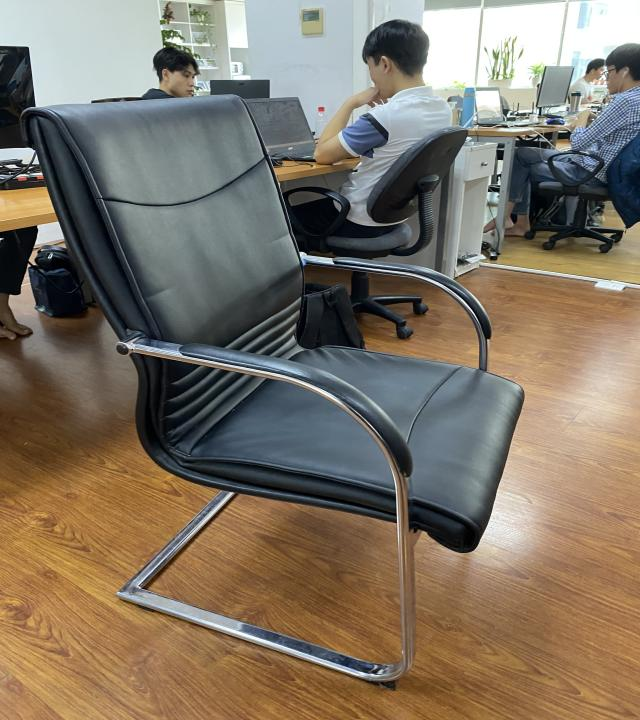SS_03: (16, 89, 530, 692)
